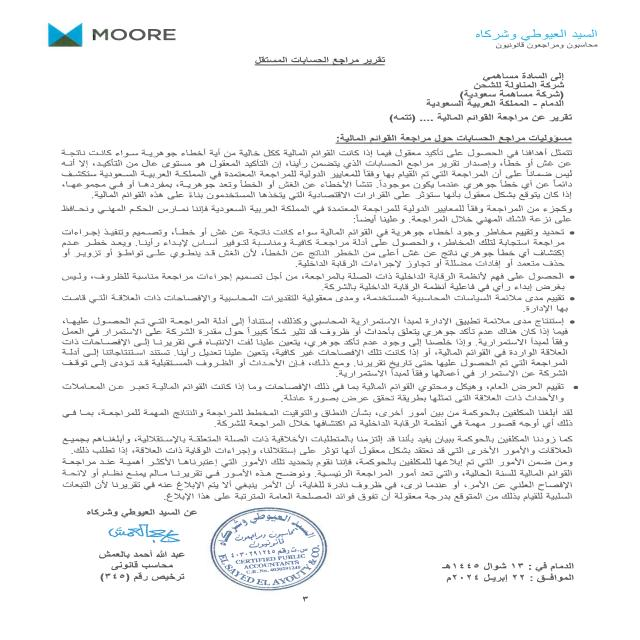auditor_report: (323, 132, 584, 148), (225, 54, 392, 73)
